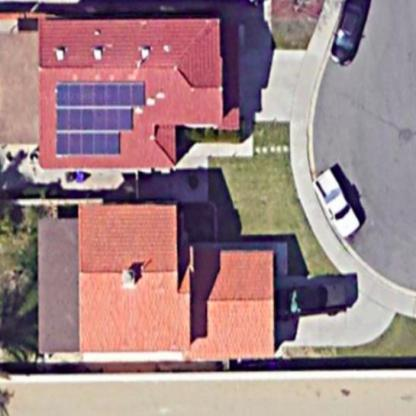car: (307, 154, 363, 244), (327, 2, 376, 73), (271, 280, 349, 318)
solar_panel: (49, 69, 154, 161)
